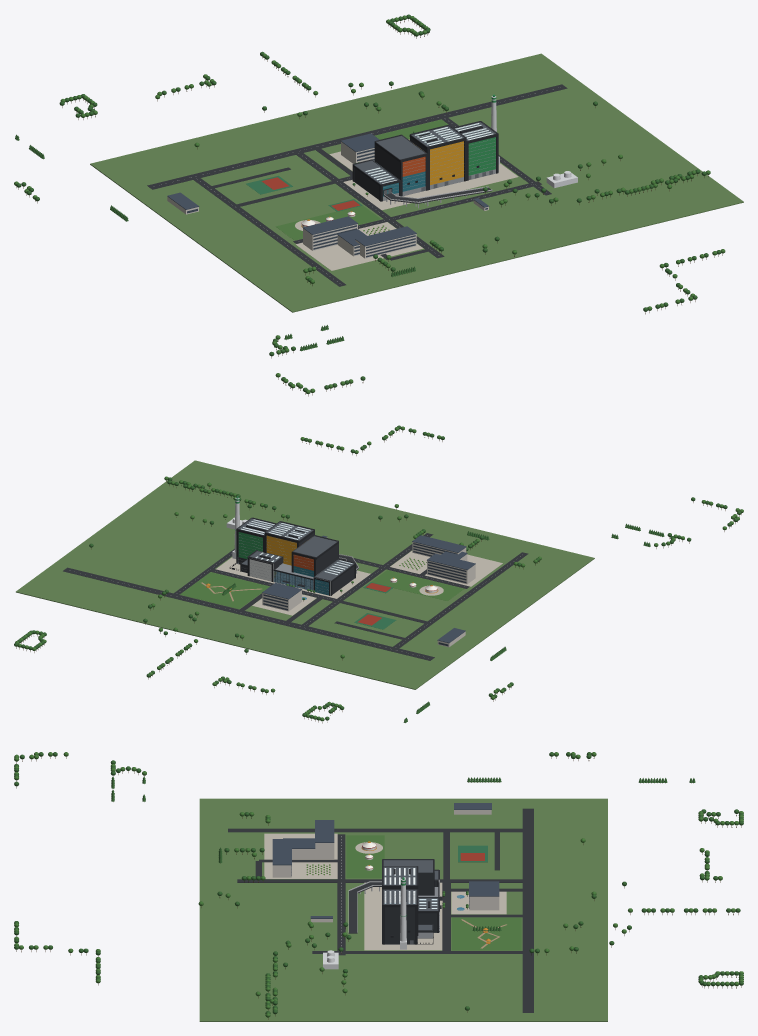
The model's file is issyk_kul_main_plant_landscape.glb.
3 views of the same model, one above another, from view 1: azimuth 30°, elevation 25°; view 2: azimuth 150°, elevation 25°; view 3: azimuth 270°, elevation 25° (orthographic). The views are drawn at different scales.
Parts seen in each view (by area): view 1: SYS__08_Landscape__Site_Terrain_Base, SYS__08_Landscape__Campus_Asphalt_Roads, SYS__08_Landscape__Granite_Plazas_Aprons, SYS__09_Trees__TianShan_Spruce, SYS__09_Trees__Broadleaf_Canopy, SYS__08_Landscape__EcoPark_Lawns, SYS__03_Skin_RAL__Boiler_South_Yellow, SYS__02_Skin_ZnAlMg__South_PortalFrames, SYS__09_Campus__CTX_DORM_4F_Facade, SYS__03_Skin_RAL__EastWest_DarkCladding, SYS__03_Skin_RAL__FlueGas_South_Green, SYS__09_Campus__CTX_HOTEL_5F_Facade (+2 smaller); view 2: SYS__08_Landscape__Site_Terrain_Base, SYS__08_Landscape__Campus_Asphalt_Roads, SYS__08_Landscape__EcoPark_Lawns, SYS__09_Trees__TianShan_Spruce, SYS__08_Landscape__Granite_Plazas_Aprons, SYS__09_Trees__Broadleaf_Canopy, SYS__02_Skin_ZnAlMg__North_PortalFrames, SYS__03_Skin_RAL__EastWest_DarkCladding, SYS__09_Campus__CTX_HOTEL_5F_Facade, SYS__01_Structure__Roof_Skylights, SYS__09_Campus__CTX_DORM_4F_Facade, SYS__09_Campus__CTX_ADMIN_212A_Facade (+3 smaller); view 3: SYS__08_Landscape__Site_Terrain_Base, SYS__08_Landscape__Campus_Asphalt_Roads, SYS__08_Landscape__Granite_Plazas_Aprons, SYS__08_Landscape__EcoPark_Lawns, SYS__09_Trees__TianShan_Spruce, SYS__09_Trees__Broadleaf_Canopy, SYS__03_Skin_RAL__EastWest_DarkCladding, SYS__02_Skin_ZnAlMg__EastWest_GableFrames, SYS__01_Structure__Roof_Skylights, SYS__09_Campus__CTX_DORM_4F_Facade, SYS__01_Structure__VOL_BOILER, SYS__07_Ramp__Elevated_Unloading_Deck (+5 smaller).
Part boxes in pixels (bbox=[...]): SYS__08_Landscape__Site_Terrain_Base: bbox=[90, 53, 743, 312]; SYS__08_Landscape__Campus_Asphalt_Roads: bbox=[147, 84, 567, 286]; SYS__08_Landscape__Granite_Plazas_Aprons: bbox=[295, 151, 518, 270]; SYS__09_Trees__TianShan_Spruce: bbox=[15, 14, 721, 391]; SYS__09_Trees__Broadleaf_Canopy: bbox=[14, 15, 725, 394]; SYS__08_Landscape__EcoPark_Lawns: bbox=[275, 119, 447, 240]; SYS__03_Skin_RAL__Boiler_South_Yellow: bbox=[430, 141, 463, 184]; SYS__02_Skin_ZnAlMg__South_PortalFrames: bbox=[381, 133, 498, 201]; SYS__09_Campus__CTX_DORM_4F_Facade: bbox=[355, 226, 416, 257]; SYS__03_Skin_RAL__EastWest_DarkCladding: bbox=[354, 136, 427, 199]; SYS__03_Skin_RAL__FlueGas_South_Green: bbox=[468, 137, 495, 175]; SYS__09_Campus__CTX_HOTEL_5F_Facade: bbox=[302, 216, 358, 249]; SYS__08_Landscape__Site_Terrain_Base: bbox=[16, 460, 594, 689]; SYS__08_Landscape__Campus_Asphalt_Roads: bbox=[63, 533, 528, 660]; SYS__08_Landscape__EcoPark_Lawns: bbox=[180, 570, 464, 608]; SYS__09_Trees__TianShan_Spruce: bbox=[14, 425, 741, 722]; SYS__08_Landscape__Granite_Plazas_Aprons: bbox=[216, 551, 502, 615]; SYS__09_Trees__Broadleaf_Canopy: bbox=[15, 426, 743, 721]; SYS__02_Skin_ZnAlMg__North_PortalFrames: bbox=[236, 528, 330, 595]; SYS__03_Skin_RAL__EastWest_DarkCladding: bbox=[238, 532, 354, 594]; SYS__09_Campus__CTX_HOTEL_5F_Facade: bbox=[427, 553, 475, 582]; SYS__01_Structure__Roof_Skylights: bbox=[241, 519, 352, 574]; SYS__09_Campus__CTX_DORM_4F_Facade: bbox=[412, 535, 466, 556]; SYS__09_Campus__CTX_ADMIN_212A_Facade: bbox=[262, 582, 301, 610]; SYS__08_Landscape__Site_Terrain_Base: bbox=[199, 798, 607, 1021]; SYS__08_Landscape__Campus_Asphalt_Roads: bbox=[228, 808, 533, 1012]; SYS__08_Landscape__Granite_Plazas_Aprons: bbox=[264, 833, 506, 950]; SYS__08_Landscape__EcoPark_Lawns: bbox=[346, 835, 521, 950]; SYS__09_Trees__TianShan_Spruce: bbox=[14, 752, 743, 1014]; SYS__09_Trees__Broadleaf_Canopy: bbox=[14, 752, 743, 1017]; SYS__03_Skin_RAL__EastWest_DarkCladding: bbox=[385, 872, 438, 944]; SYS__02_Skin_ZnAlMg__EastWest_GableFrames: bbox=[382, 859, 438, 944]; SYS__01_Structure__Roof_Skylights: bbox=[384, 868, 437, 908]; SYS__09_Campus__CTX_DORM_4F_Facade: bbox=[272, 839, 291, 875]; SYS__01_Structure__VOL_BOILER: bbox=[383, 866, 416, 885]; SYS__07_Ramp__Elevated_Unloading_Deck: bbox=[349, 882, 381, 933].
Size of the model in its own units: 663 by 82.9 by 777.
